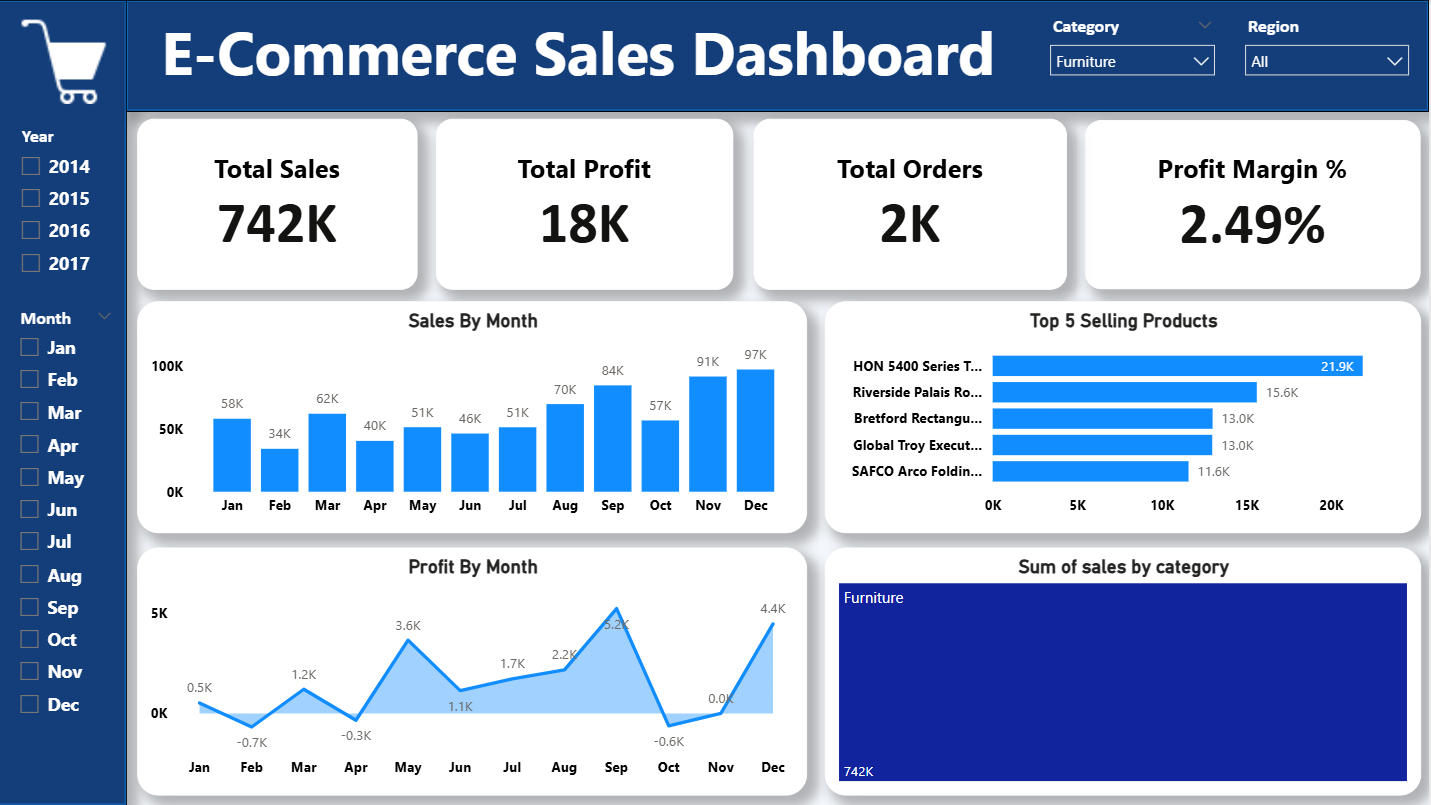

This screenshot's page, from the dashboard's own definition file:
{"tool":"powerbi","page":{"name":"Page 1","canvas":[1280,720],"ordinal":0},"visuals":[{"type":"shape","box":[0,0,117.1,720],"z":0},{"type":"image","box":[147.1,21.4,84.3,77.1],"z":1000},{"type":"shape","box":[115.7,0,1164.3,100],"z":2000},{"type":"slicer","fields":{"Values":["cleaned_dataset.Year"]},"box":[10,106.7,106.7,153.3],"z":3000},{"type":"textbox","box":[117.1,4.3,805.7,91.4],"z":4000},{"type":"slicer","fields":{"Values":["cleaned_dataset.Month"]},"box":[8.6,268.6,107.1,444.3],"z":5000},{"type":"slicer","fields":{"Values":["cleaned_dataset.category"]},"box":[931.4,8.6,167.9,90.7],"z":6000},{"type":"slicer","fields":{"Values":["cleaned_dataset.region"]},"box":[1105.7,8.6,166.4,90.7],"z":7000},{"type":"cardVisual","fields":{"Data":["cleaned_dataset.Total Sales"]},"box":[125.7,105.7,250,152.9],"z":8000},{"type":"cardVisual","fields":{"Data":["cleaned_dataset.Profit Margin %"]},"box":[972.9,107.1,300,151.4],"z":9000},{"type":"cardVisual","fields":{"Data":["cleaned_dataset.Total Orders"]},"box":[677.1,105.7,280,152.9],"z":10000},{"type":"cardVisual","fields":{"Data":["cleaned_dataset.Total Profit"]},"box":[392.9,105.7,265.7,152.9],"z":11000},{"type":"columnChart","title":"Sales By Month","fields":{"Y":["Sum(cleaned_dataset.sales)"],"Category":["cleaned_dataset.Month"]},"box":[125.7,268.6,598.6,207.1],"z":12000},{"type":"areaChart","title":"Profit By Month","fields":{"Category":["cleaned_dataset.Month"],"Y":["Sum(cleaned_dataset.profit)"]},"box":[125.7,488.6,598.6,221.4],"z":13000},{"type":"clusteredBarChart","title":"Top 5 Selling Products","fields":{"Category":["cleaned_dataset.product_name"],"Y":["Sum(cleaned_dataset.sales)"]},"box":[740,268.6,532.9,207.1],"z":14000},{"type":"treemap","fields":{"Group":["cleaned_dataset.category"],"Values":["Sum(cleaned_dataset.sales)"]},"box":[740,488.6,532.9,221.4],"z":15000},{"type":"image","box":[15.7,14.3,92.9,78.6],"z":16000}]}

Visuals, with their boxes in screenshot pixels (x1, y1, x2, y2), scaled from the page's 1280x720 canvas onto the 1431x805 screenshot:
shape: <box>0,0,131,804</box>
image: <box>164,24,259,110</box>
shape: <box>129,0,1430,112</box>
slicer - cleaned_dataset.Year: <box>11,119,130,291</box>
textbox: <box>131,5,1032,107</box>
slicer - cleaned_dataset.Month: <box>10,300,129,797</box>
slicer - cleaned_dataset.category: <box>1041,10,1229,111</box>
slicer - cleaned_dataset.region: <box>1236,10,1422,111</box>
cardVisual - cleaned_dataset.Total Sales: <box>141,118,420,289</box>
cardVisual - cleaned_dataset.Profit Margin %: <box>1088,120,1423,289</box>
cardVisual - cleaned_dataset.Total Orders: <box>757,118,1070,289</box>
cardVisual - cleaned_dataset.Total Profit: <box>439,118,736,289</box>
"Sales By Month" columnChart: <box>141,300,810,532</box>
"Profit By Month" areaChart: <box>141,546,810,794</box>
"Top 5 Selling Products" clusteredBarChart: <box>827,300,1423,532</box>
treemap - cleaned_dataset.category x Sum(cleaned_dataset.sales): <box>827,546,1423,794</box>
image: <box>18,16,121,104</box>
